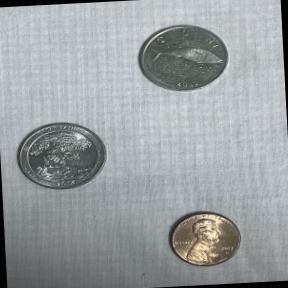Croatia-2Kune-B: (132, 17, 237, 97)
US-1cent-B: (164, 207, 246, 272)
US-25cent-B: (11, 117, 112, 196)
